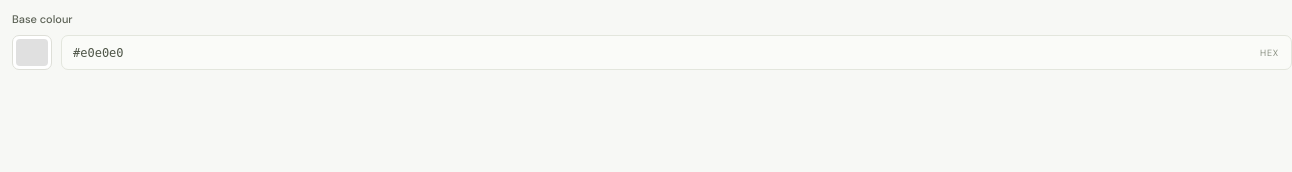
Scenario: ColourPicker › replaces invalid text and errors when the native picker changes
Replace the text in the field named "Hex colour" with "oops" at (661, 52), box [62, 36, 1260, 69]
Then press Enter
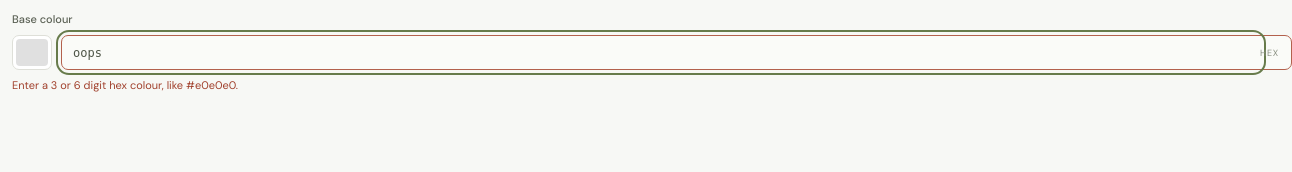
Type "#336699" into the colour field labelled "Base colour" at (32, 52), box [12, 35, 52, 70]
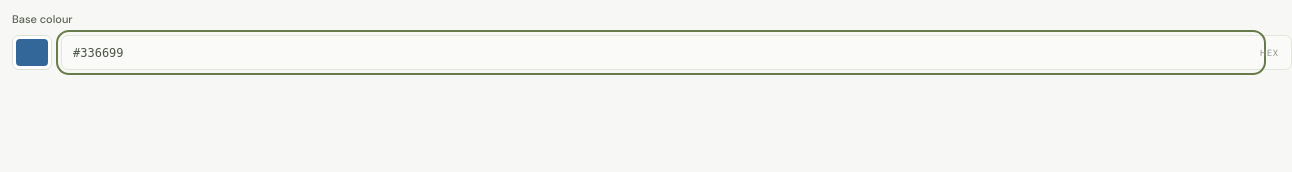
Now the field named "Hex colour" holds "#336699", box [62, 36, 1260, 69]
